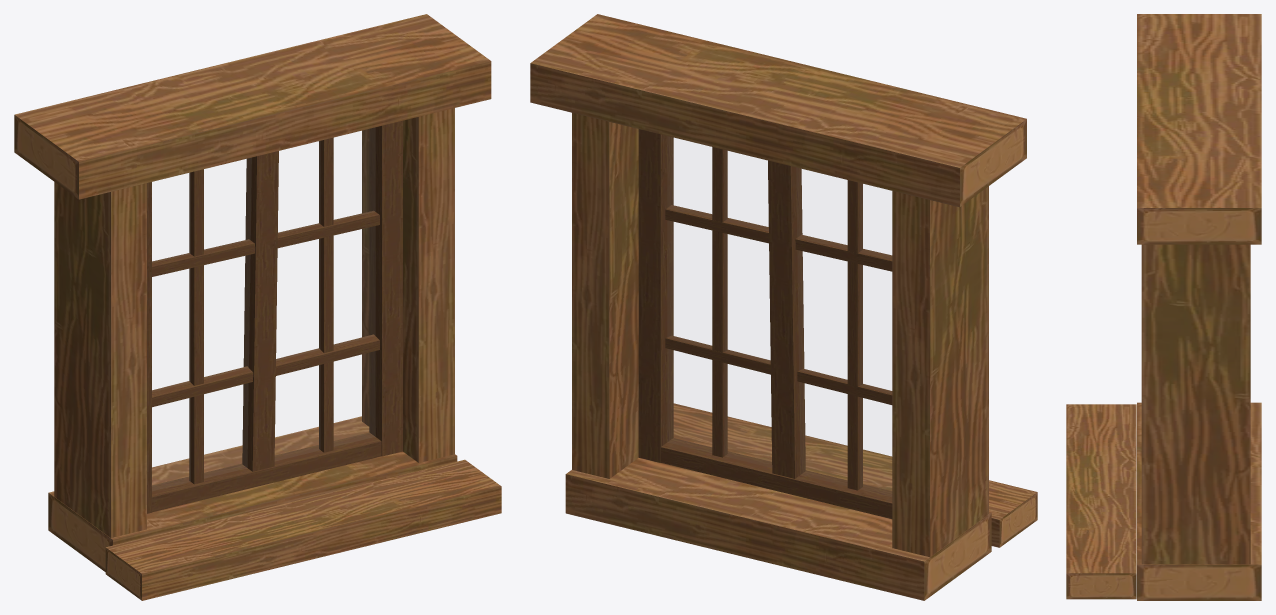
File: Window_Wide_Flat1.gltf
The picture shows the model from 3 angles, left to right: view 1: azimuth 30°, elevation 25°; view 2: azimuth 150°, elevation 25°; view 3: azimuth 270°, elevation 25°; orthographic projection. The views are drawn at different scales.
Visible parts, largest first — view 1: Window_Wide_Flat1; view 2: Window_Wide_Flat1; view 3: Window_Wide_Flat1.
Boxes of the visible parts, x1=… form: Window_Wide_Flat1: x1=14, y1=14, x2=501, y2=600; Window_Wide_Flat1: x1=530, y1=14, x2=1037, y2=600; Window_Wide_Flat1: x1=1066, y1=14, x2=1261, y2=600.
Size of the model in its own units: 1.61 by 1.58 by 0.6834.
Materials: 2 (1 with a texture image).
